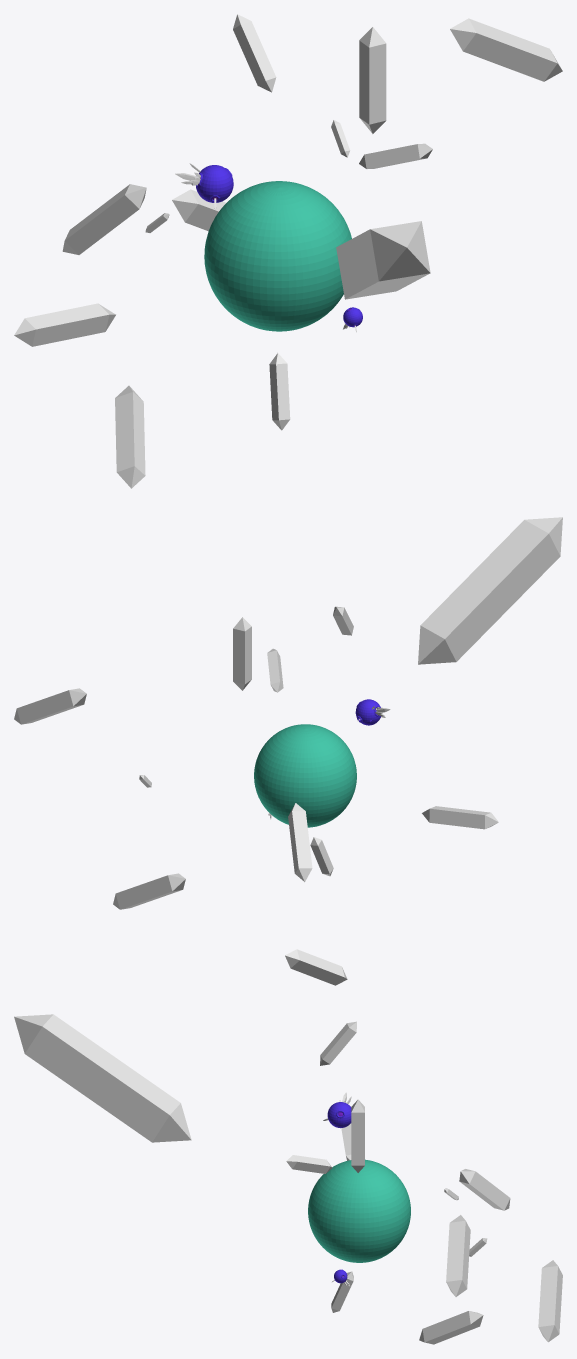
Rendered from planeta.fbx.
3 renders of one model, top to bottom at view 1: azimuth 30°, elevation 25°; view 2: azimuth 150°, elevation 25°; view 3: azimuth 270°, elevation 25°, orthographic. The views are drawn at different scales.
Parts seen in each view (by area): view 1: Sphere, Cube.005, Cube.007, Cube.008, Cube.009, Cube, Cube.003, Cube.010, Sphere.001, Cube.002, Cube.012, Cube.001; view 2: Cube.005, Sphere, Cube.007, Cube.012, Cube.003, Cube.008, Cube.009, Cube, Sphere.001; view 3: Cube.005, Sphere, Cube.012, Cube.007, Cube.009, Cube.003, Cube, Cube.010, Sphere.001, Cube.001, Cube.002.
Boxes of the visible parts, box(x1,y1,x2,y2) form: Sphere: box(204, 181, 351, 331); Cube.005: box(336, 221, 430, 299); Cube.007: box(450, 18, 562, 81); Cube.008: box(14, 303, 115, 346); Cube.009: box(115, 385, 145, 488); Cube: box(359, 27, 386, 133); Cube.003: box(62, 184, 146, 254); Cube.010: box(233, 14, 276, 92); Sphere.001: box(175, 163, 233, 210); Cube.002: box(269, 353, 290, 430); Cube.012: box(172, 189, 226, 231); Cube.001: box(359, 143, 432, 168); Cube.005: box(418, 517, 562, 664); Sphere: box(254, 724, 356, 827); Cube.007: box(14, 688, 86, 724); Cube.012: box(113, 873, 185, 909); Cube.003: box(288, 803, 312, 881); Cube.008: box(422, 806, 498, 829); Cube.009: box(285, 949, 347, 985); Cube: box(233, 617, 251, 690); Sphere.001: box(355, 699, 390, 725); Cube.005: box(14, 1014, 191, 1142); Sphere: box(308, 1159, 410, 1262); Cube.012: box(538, 1260, 562, 1342); Cube.007: box(446, 1215, 470, 1296); Cube.009: box(419, 1311, 483, 1344); Cube.003: box(459, 1169, 510, 1210); Cube: box(351, 1099, 364, 1172); Cube.010: box(320, 1021, 356, 1065); Sphere.001: box(323, 1092, 351, 1128); Cube.001: box(286, 1155, 332, 1173); Cube.002: box(331, 1271, 353, 1312).
Size of the model in its own units: 3799 by 2870 by 4186.
